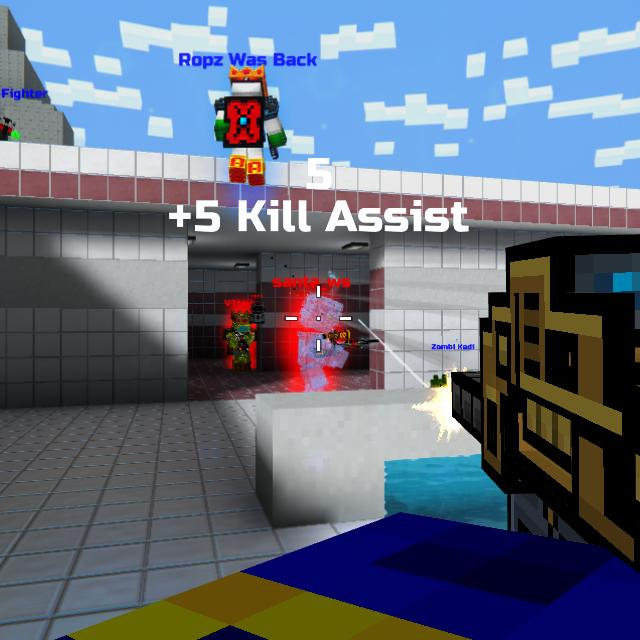Enemy: (298, 299, 346, 394), (222, 313, 257, 371)
